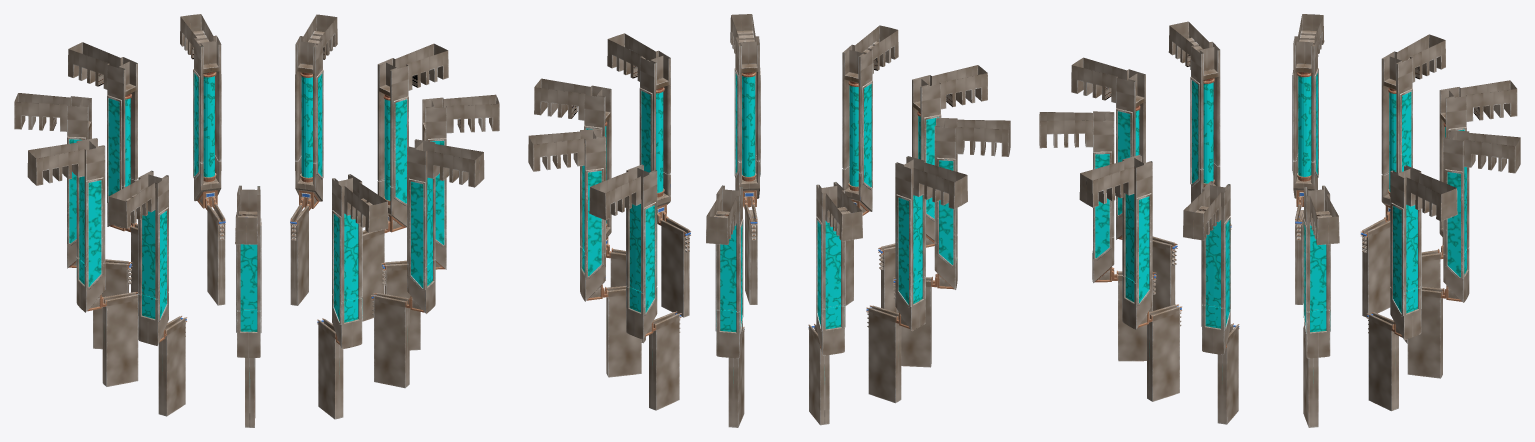
File: Starship_columns.fbx
3 views of the same model, side by side, from view 1: azimuth 30°, elevation 25°; view 2: azimuth 150°, elevation 25°; view 3: azimuth 270°, elevation 25° (orthographic).
Parts seen in each view (by area): view 1: Starship_columns; view 2: Starship_columns; view 3: Starship_columns.
Part boxes in pixels (x1=…): Starship_columns: x1=14, y1=14, x2=499, y2=427; Starship_columns: x1=528, y1=14, x2=1010, y2=427; Starship_columns: x1=1039, y1=14, x2=1520, y2=427.
Size of the model in its own units: 1136 by 630 by 1132.
